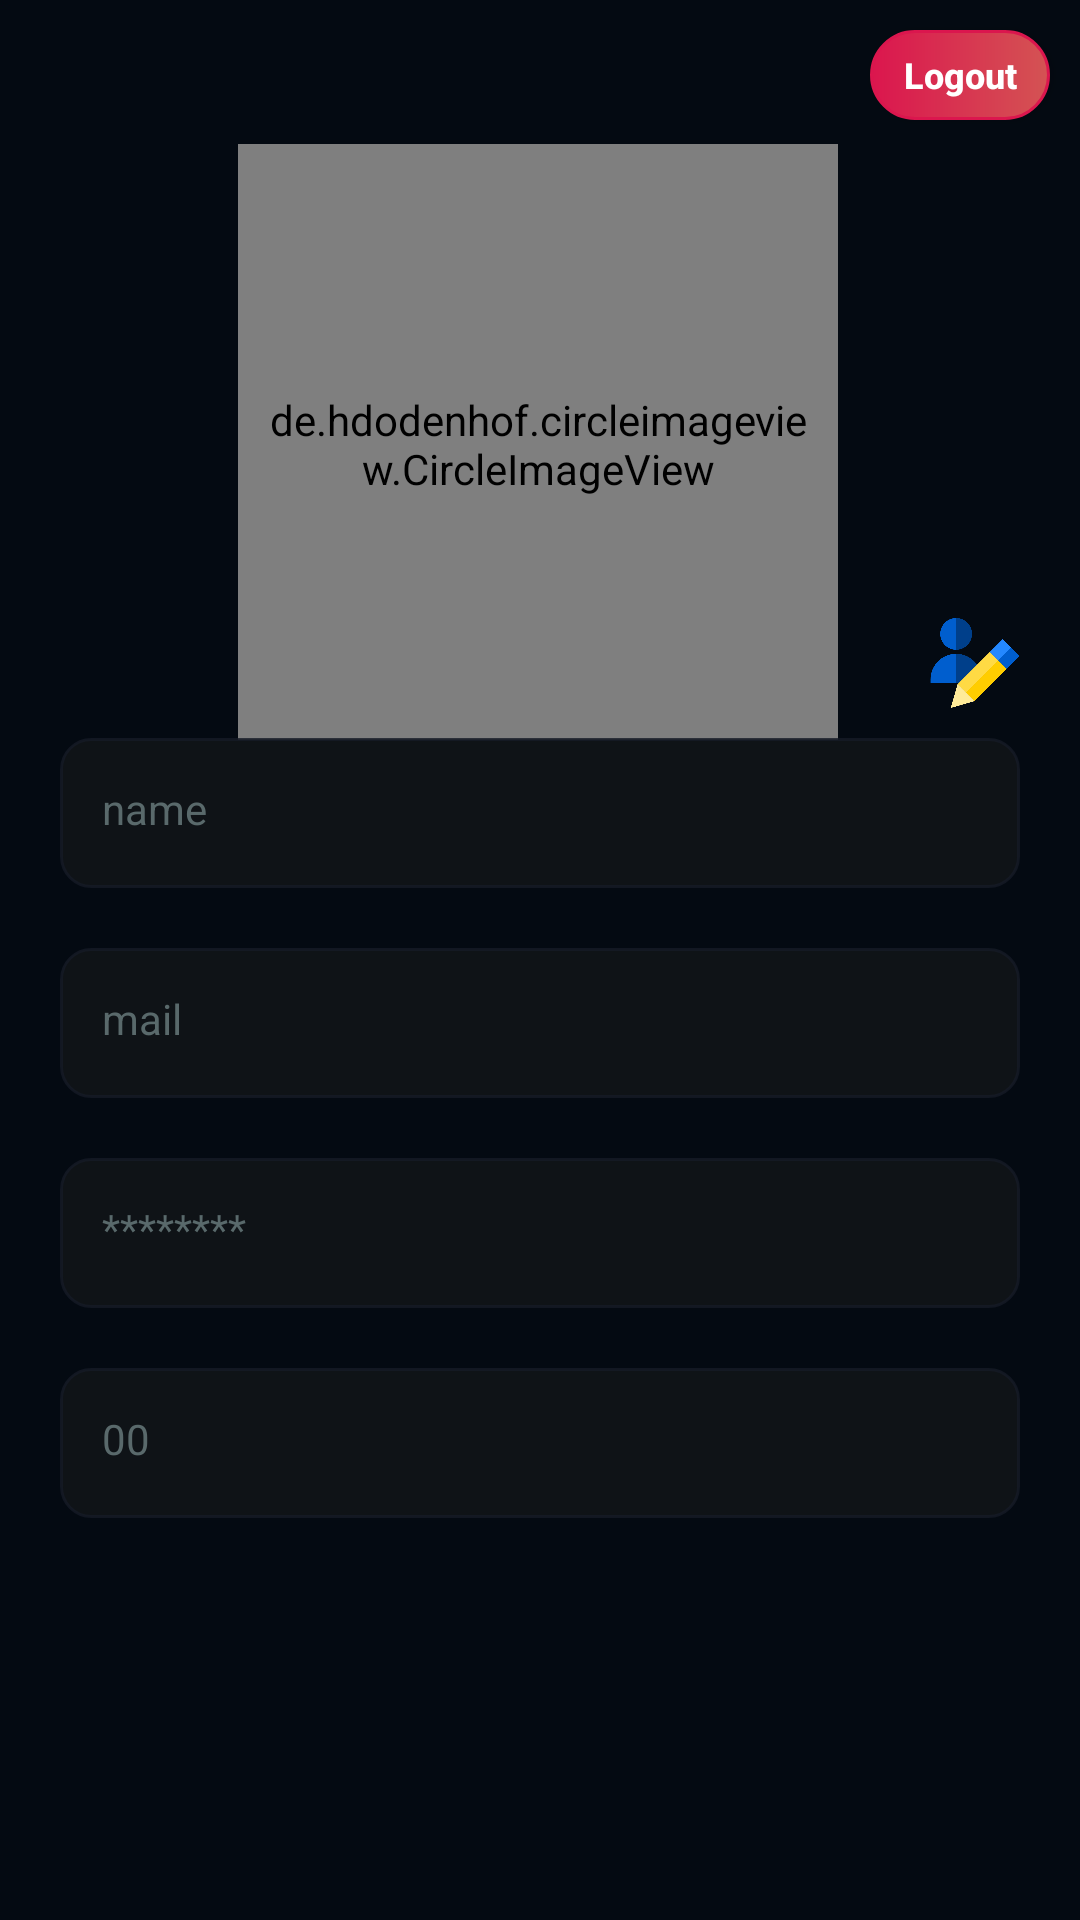

Screen size 1080 x 1920. Icon name, then its box in pixels as [x1,y1,x2,y2]:
edit profile: [930,618,1019,708]
